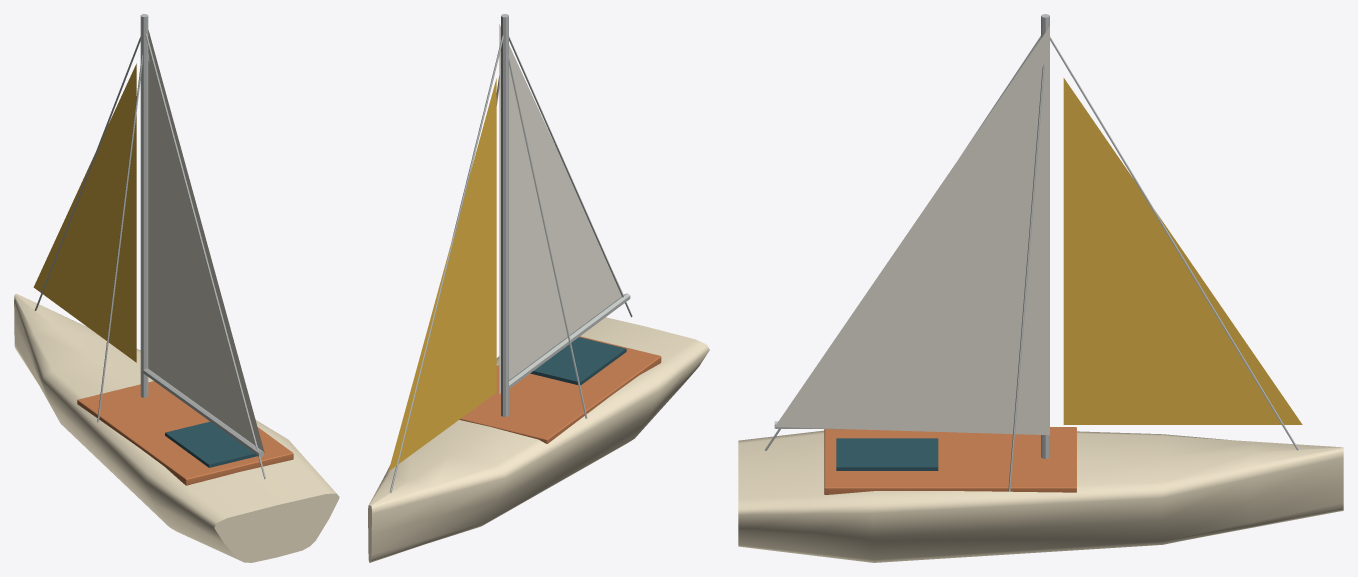
Rendered from sailboat_detail.glb.
3 renders of one model, left to right at view 1: azimuth 30°, elevation 25°; view 2: azimuth 150°, elevation 25°; view 3: azimuth 270°, elevation 25°, orthographic. The views are drawn at different scales.
Visible parts, largest first — view 1: Sailboat hull, Triangular mainsail, Jib, Teak deck, SailboatModel traffic_metal, Cockpit well; view 2: Sailboat hull, Triangular mainsail, Jib, Teak deck, SailboatModel traffic_metal, Cockpit well; view 3: Triangular mainsail, Sailboat hull, Jib, Teak deck, Cockpit well, SailboatModel traffic_metal.
Boxes of the visible parts, x1,y1,x2,y2 form: Sailboat hull: (14,293,339,562); Triangular mainsail: (148,30,264,452); Jib: (33,63,136,362); Teak deck: (77,381,293,485); SailboatModel traffic_metal: (34,14,265,479); Cockpit well: (165,421,257,467); Sailboat hull: (368,317,709,562); Triangular mainsail: (499,24,623,393); Jib: (388,78,496,471); Teak deck: (459,336,661,443); SailboatModel traffic_metal: (389,14,632,492); Cockpit well: (530,337,626,385); Triangular mainsail: (775,26,1049,435); Sailboat hull: (738,430,1343,562); Jib: (1063,78,1302,424); Teak deck: (824,427,1076,494); Cockpit well: (836,438,938,470); SailboatModel traffic_metal: (765,14,1298,491).
Bounding box in the file's own units: 2.19 × 6.45 × 6.7.
